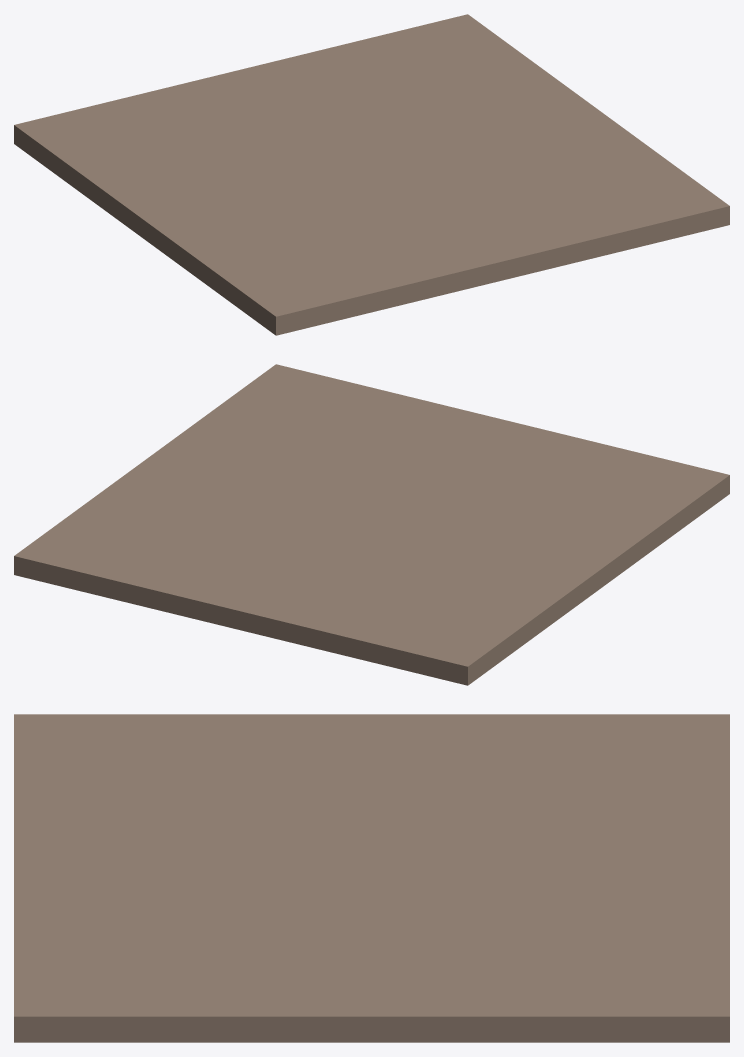
Rendered from shinyfloor_five-convcol.gltf.
The picture shows the model from 3 angles, top to bottom: view 1: azimuth 30°, elevation 25°; view 2: azimuth 150°, elevation 25°; view 3: azimuth 270°, elevation 25°; orthographic projection. The views are drawn at different scales.
Visible parts, largest first — view 1: shinyfloor_five-convcol; view 2: shinyfloor_five-convcol; view 3: shinyfloor_five-convcol.
Boxes of the visible parts, <box> form: shinyfloor_five-convcol: <box>14,14,729,335</box>; shinyfloor_five-convcol: <box>14,364,729,685</box>; shinyfloor_five-convcol: <box>14,714,729,1042</box>.
Bounding box in the file's own units: 5 × 0.2 × 5.
